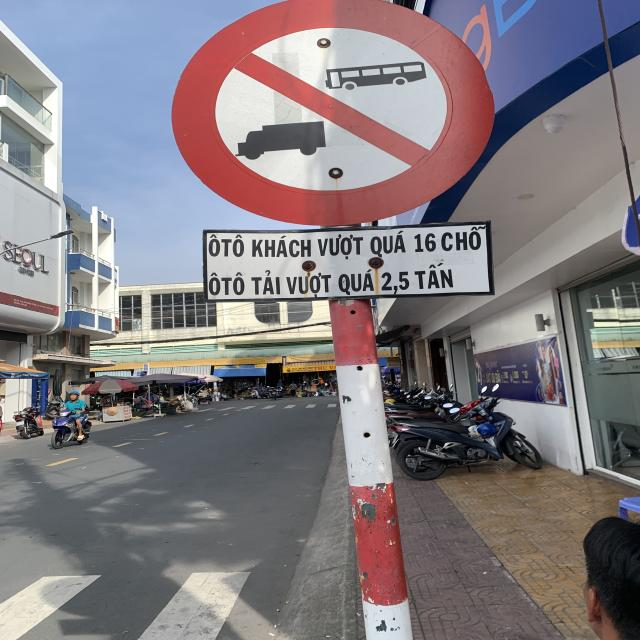Cam_XeTai_XeKhach: (172, 0, 494, 226)
